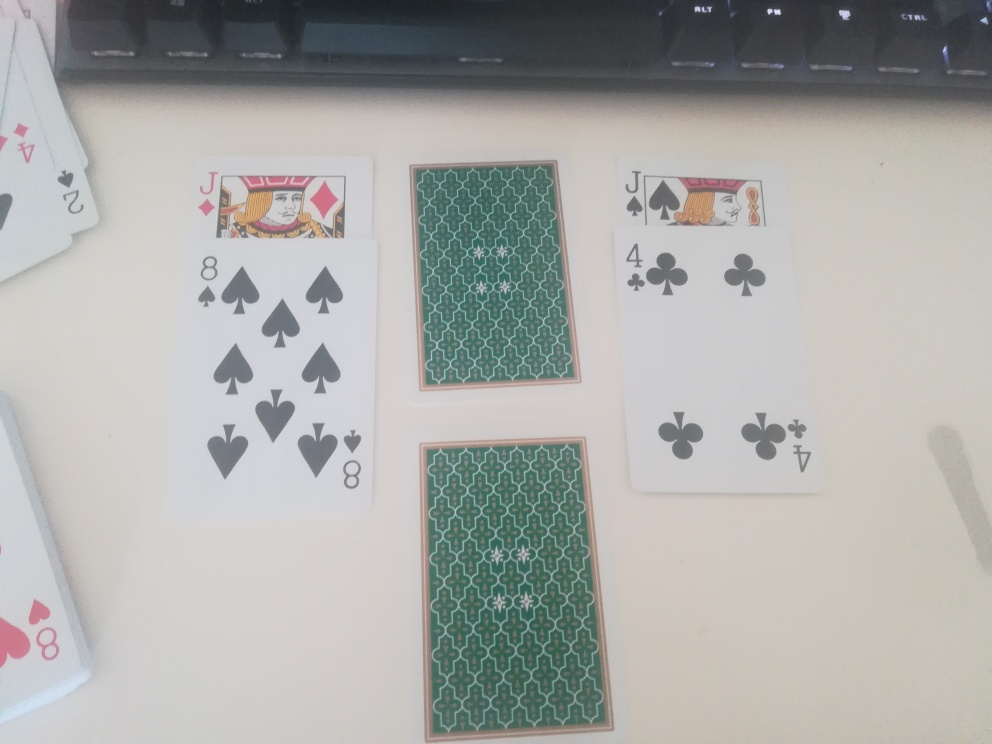4C: (621, 241, 652, 301)
8S: (195, 249, 224, 314)
BACK: (416, 439, 620, 740), (399, 159, 584, 394)
JD: (195, 167, 224, 223)
JS: (620, 165, 650, 224)
